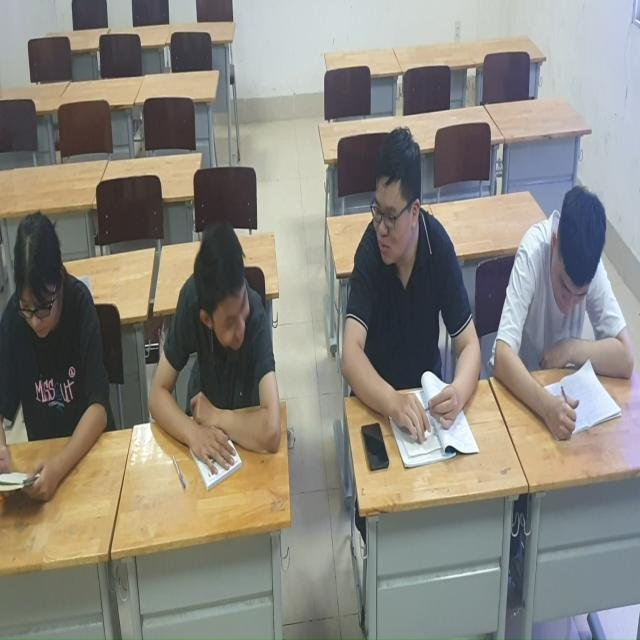read: (343, 90, 486, 444), (486, 156, 636, 461), (141, 219, 296, 478), (1, 204, 128, 502)
